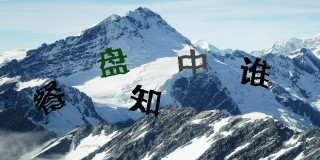中: (177, 49, 207, 78)
盘: (97, 45, 130, 79)
知: (130, 83, 162, 118)
谁: (239, 54, 270, 90)
餐: (34, 81, 67, 117)
